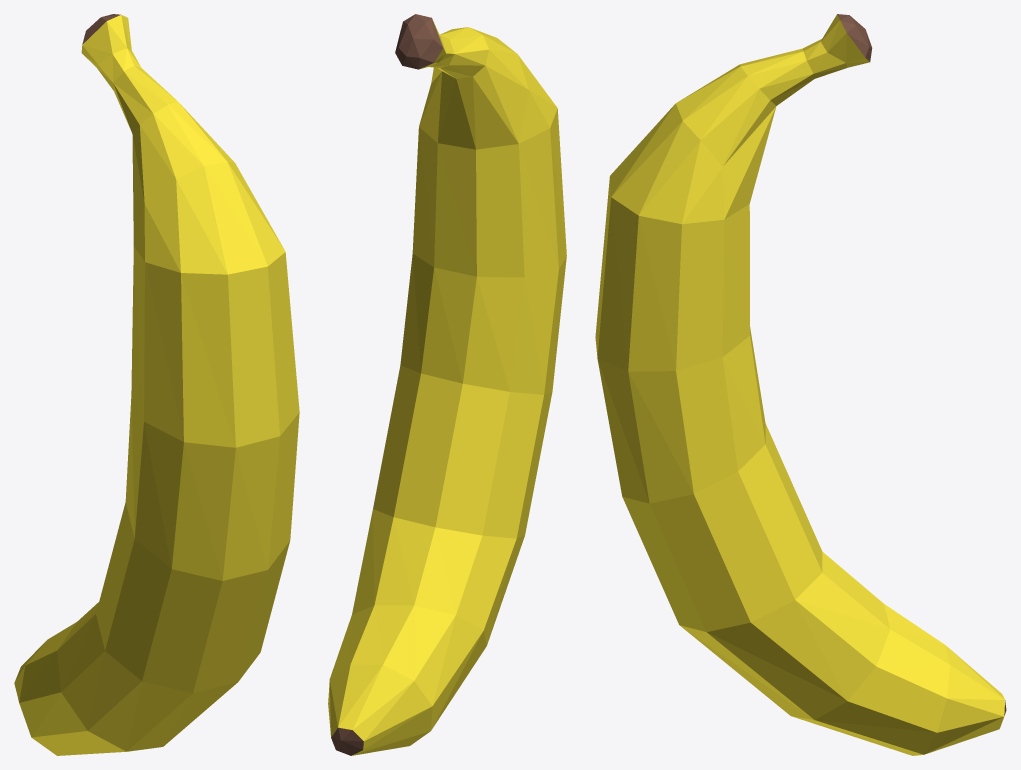
File: Banana2.glb
The picture shows the model from 3 angles, left to right: view 1: azimuth 30°, elevation 25°; view 2: azimuth 150°, elevation 25°; view 3: azimuth 270°, elevation 25°; orthographic projection. The views are drawn at different scales.
Visible parts, largest first — view 1: group1337751287; view 2: group1337751287; view 3: group1337751287.
Boxes of the visible parts, x1,y1,x2,y2 form: group1337751287: (14,14,299,755); group1337751287: (328,14,566,755); group1337751287: (595,14,1006,755).
Bounding box in the file's own units: 0.5901 × 2.86 × 1.45.
